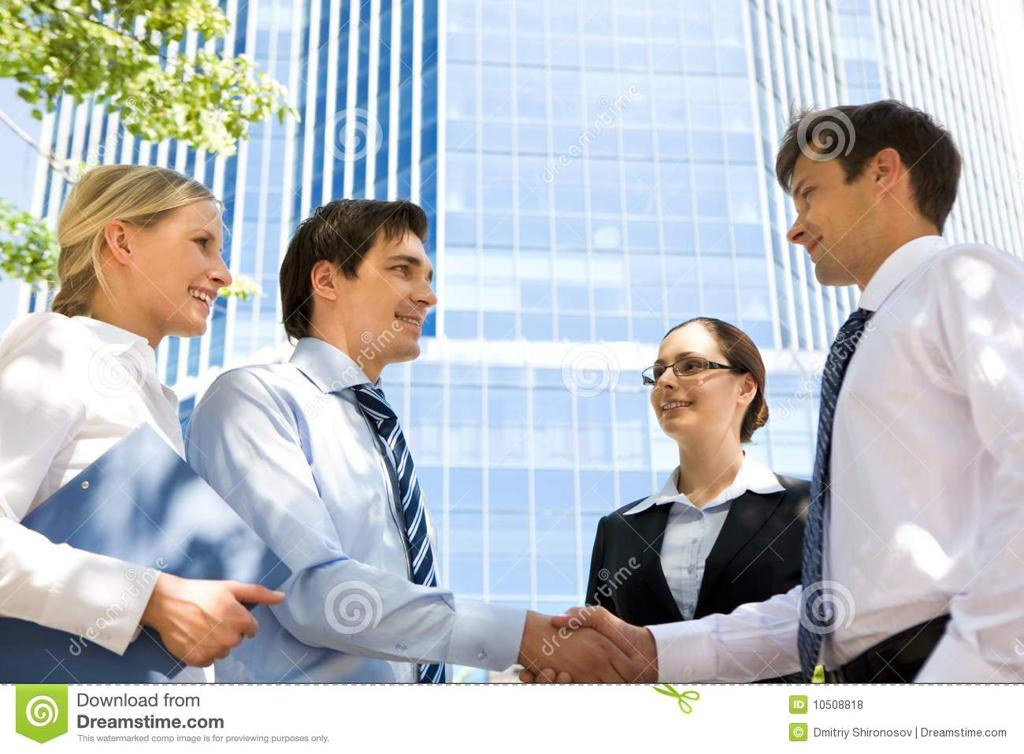face: (150, 198, 232, 336), (350, 226, 434, 358), (786, 150, 864, 282), (650, 326, 726, 434)
